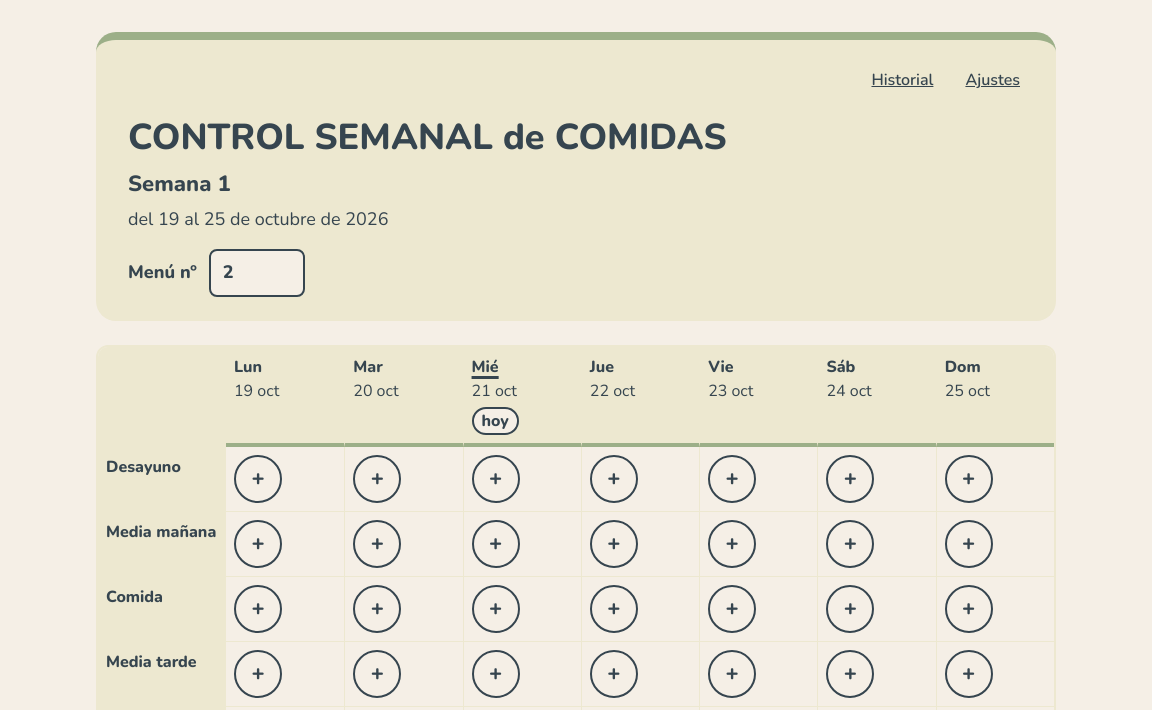
it: WeeklySheetScreen › 0 muestra un aviso y no guarda
Replace the text in the number field labelled "Menú nº" with "0". click: (257, 273)
box: [209,249,305,297]
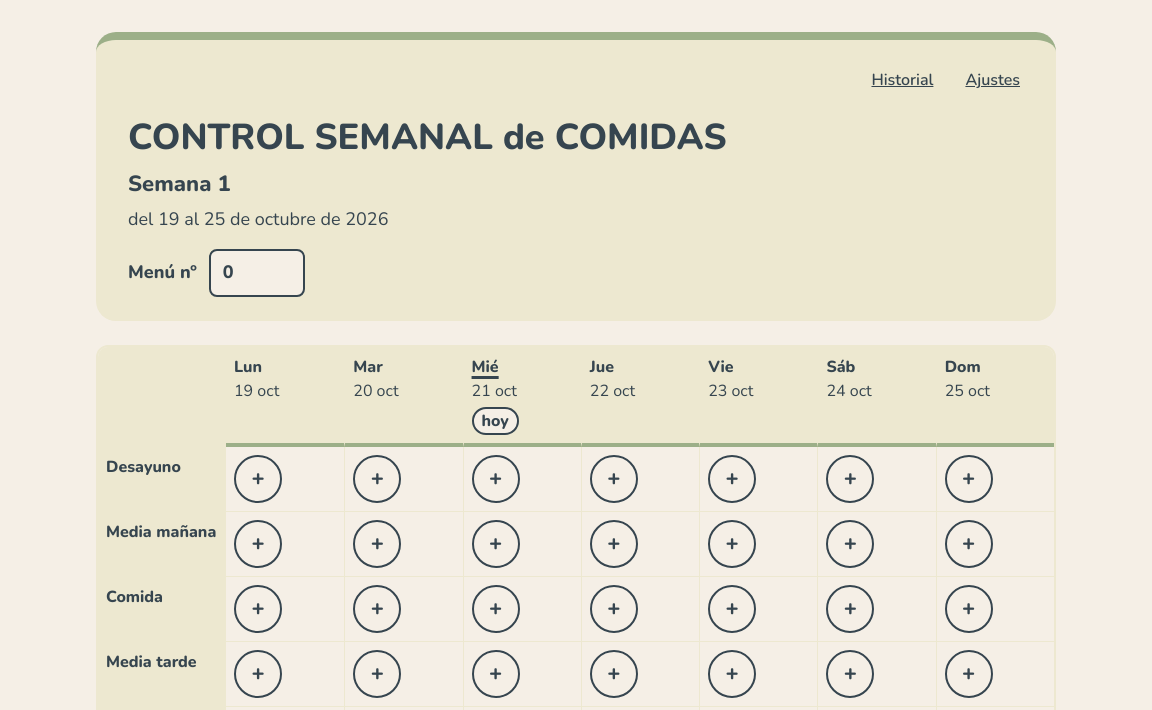
Leave the number field labelled "Menú nº", box [209,249,305,297]
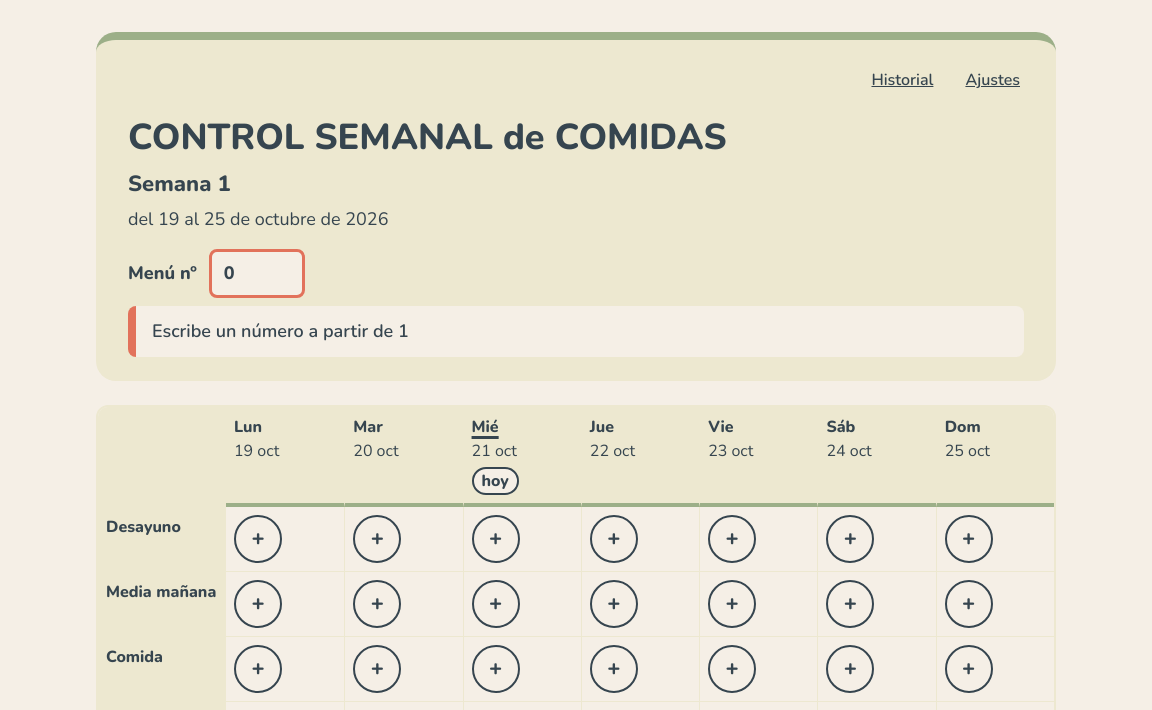
Result: the text "Escribe un número a partir de 1" is shown at [128,306,1024,357]
